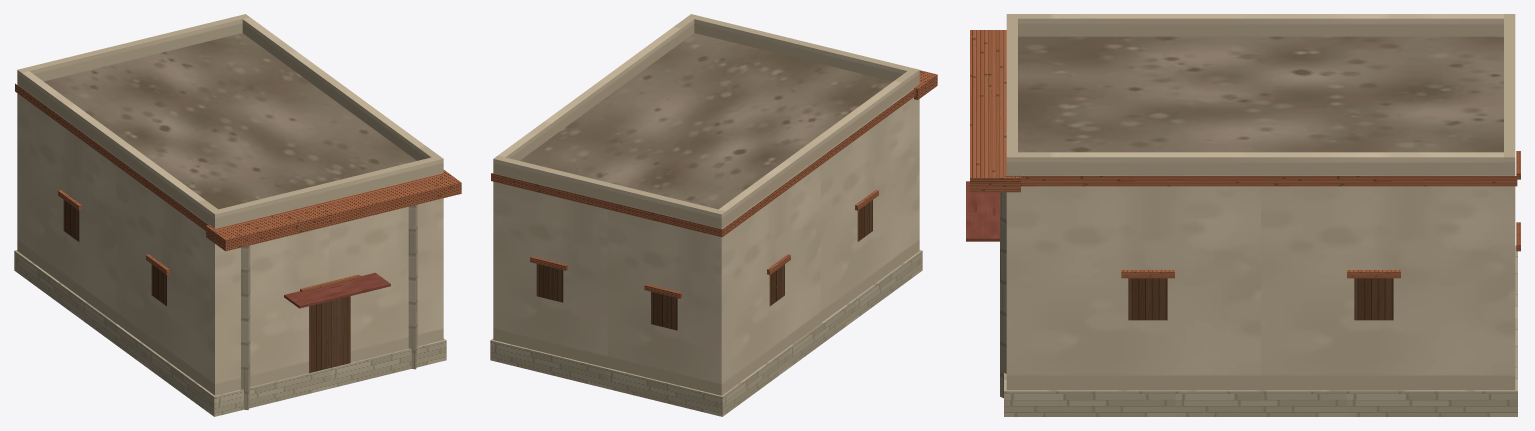
The model's file is ae_sand_stone_large_hall_lod1.glb.
3 views of the same model, side by side, from view 1: azimuth 30°, elevation 25°; view 2: azimuth 150°, elevation 25°; view 3: azimuth 270°, elevation 25° (orthographic). The views are drawn at different scales.
Parts seen in each view (by area): view 1: ae_sand_stone_large_hall_lod1; view 2: ae_sand_stone_large_hall_lod1; view 3: ae_sand_stone_large_hall_lod1.
Part boxes in pixels (left/top/right/bottom): ae_sand_stone_large_hall_lod1: left=14, top=14, right=461, bottom=416; ae_sand_stone_large_hall_lod1: left=490, top=14, right=937, bottom=416; ae_sand_stone_large_hall_lod1: left=966, top=14, right=1520, bottom=416.
Size of the model in its own units: 6.2 by 5.05 by 9.82.
Materials: 1 (1 with a texture image).
